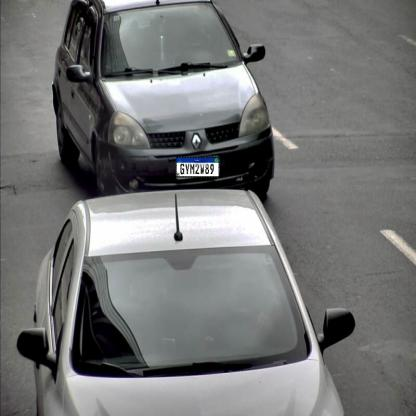PlacaM: (176, 156, 219, 178)
